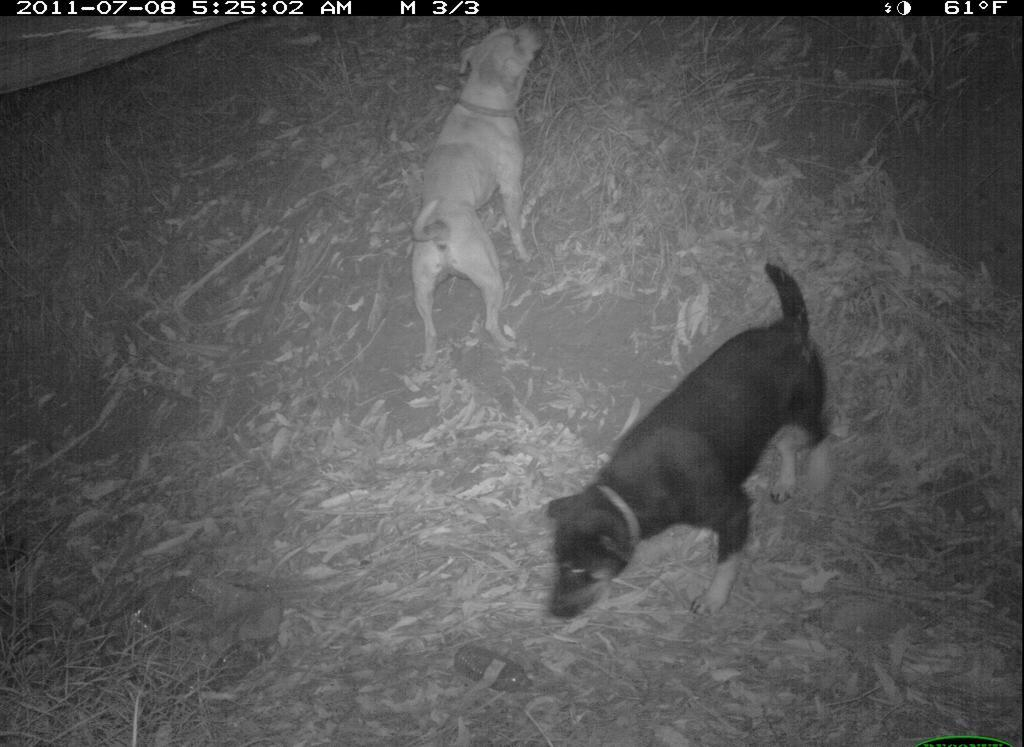dog: (536, 264, 841, 628), (402, 20, 548, 370)
